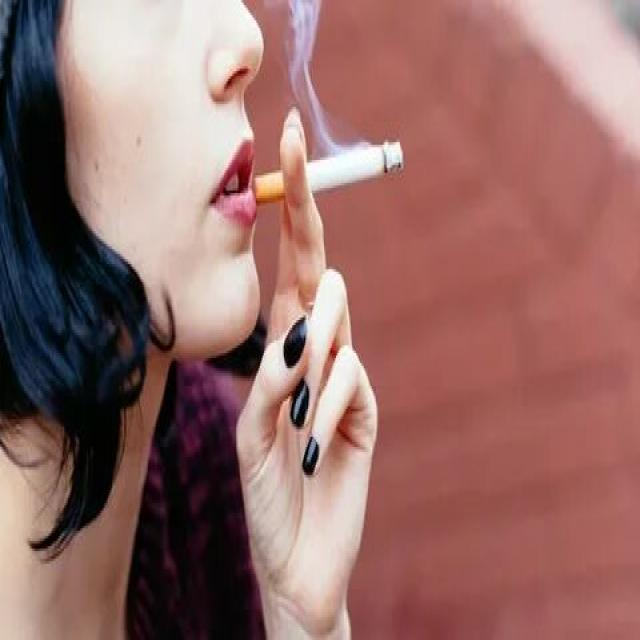smoke: (253, 134, 407, 210)
